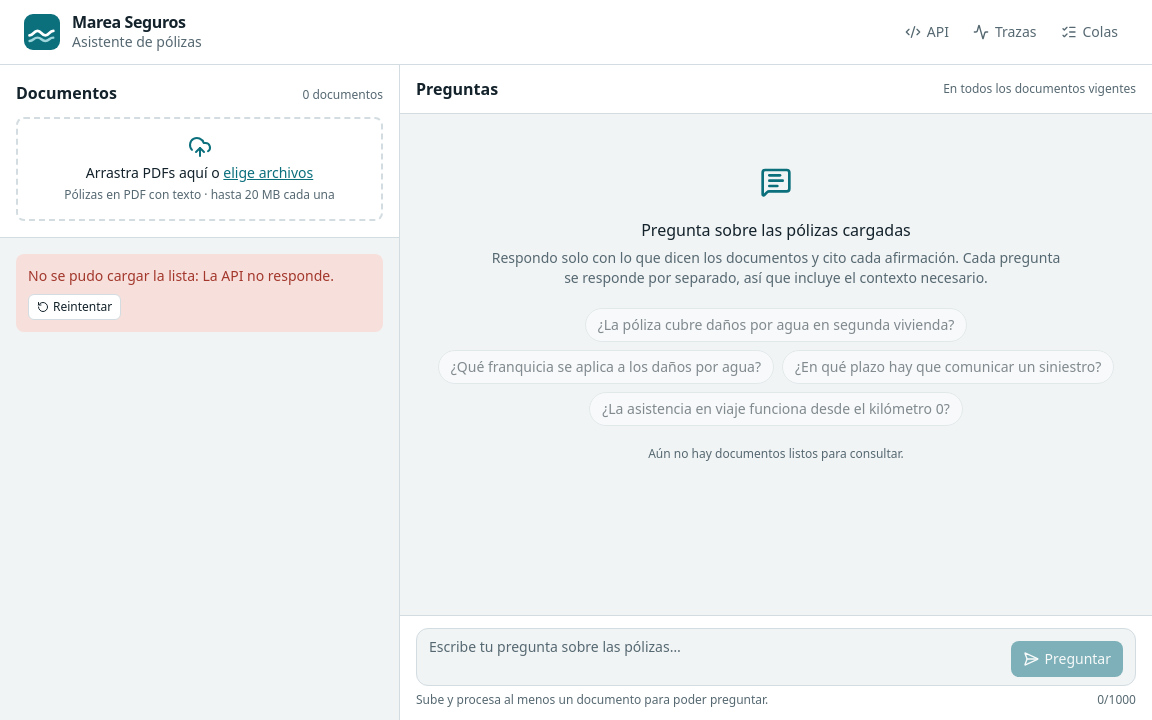
Test case: App › shows why the list could not be loaded and lets the user retry
Expected: the text "No se pudo cargar la lista: La API no responde." is shown, [28,266,371,286]
Click the button "Reintentar".
click(75, 307)  # box [28,294,121,320]
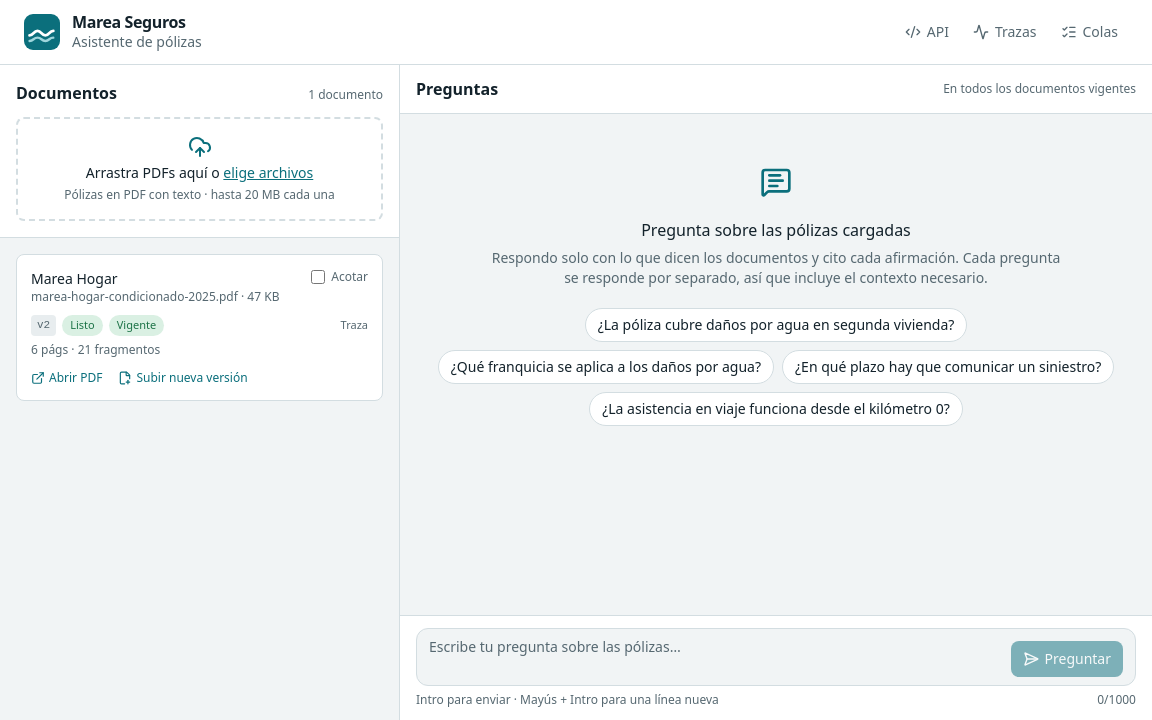
Result: the element "Marea Hogar" is shown at [16,254,383,400]
